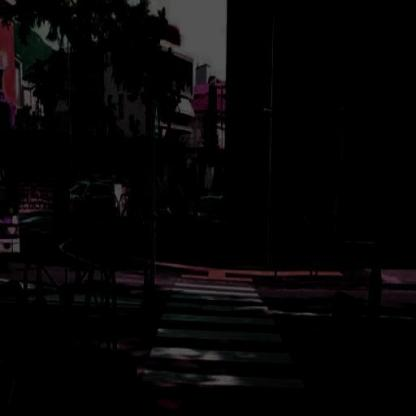crosswalk: (147, 325, 300, 367)
